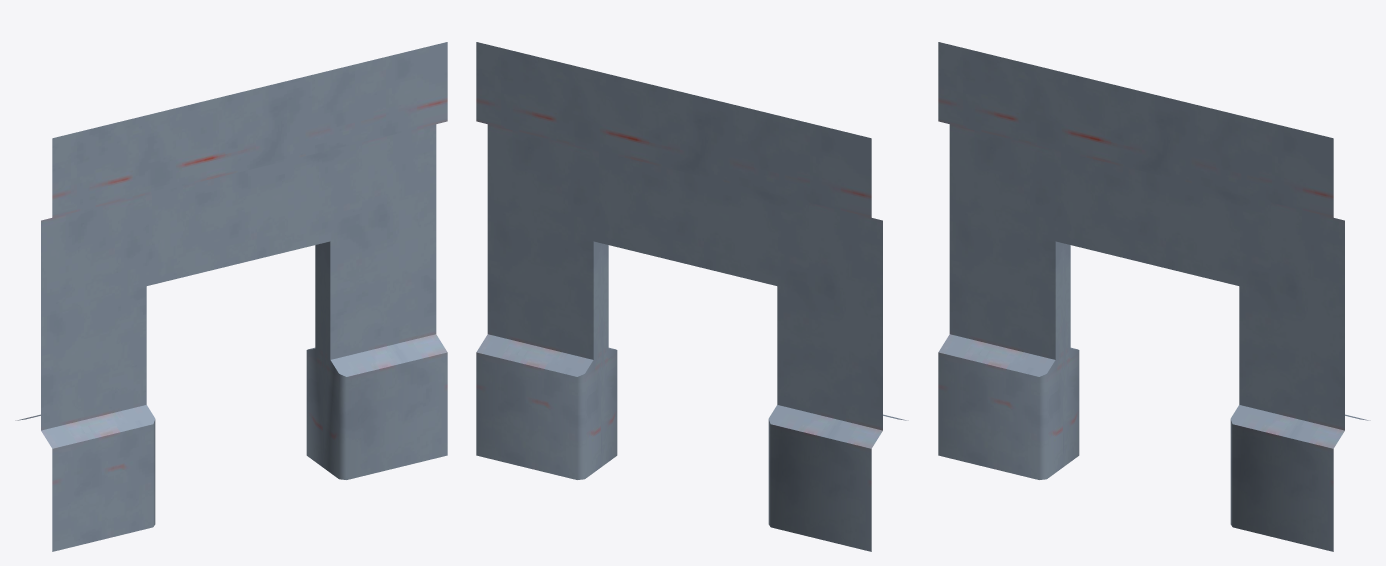
The model's file is Wall_DoorEntrance.glb.
The picture shows the model from 3 angles, left to right: view 1: azimuth 30°, elevation 25°; view 2: azimuth 150°, elevation 25°; view 3: azimuth 330°, elevation 25°; orthographic projection.
Parts seen in each view (by area): view 1: Wall_DoorEntrance; view 2: Wall_DoorEntrance; view 3: Wall_DoorEntrance.
Boxes of the visible parts, bbox=[...] form: Wall_DoorEntrance: bbox=[15, 42, 447, 551]; Wall_DoorEntrance: bbox=[476, 42, 908, 551]; Wall_DoorEntrance: bbox=[938, 42, 1370, 551].
Bounding box in the file's own units: 6 × 6 × 1.
1 material, 1 textured.
